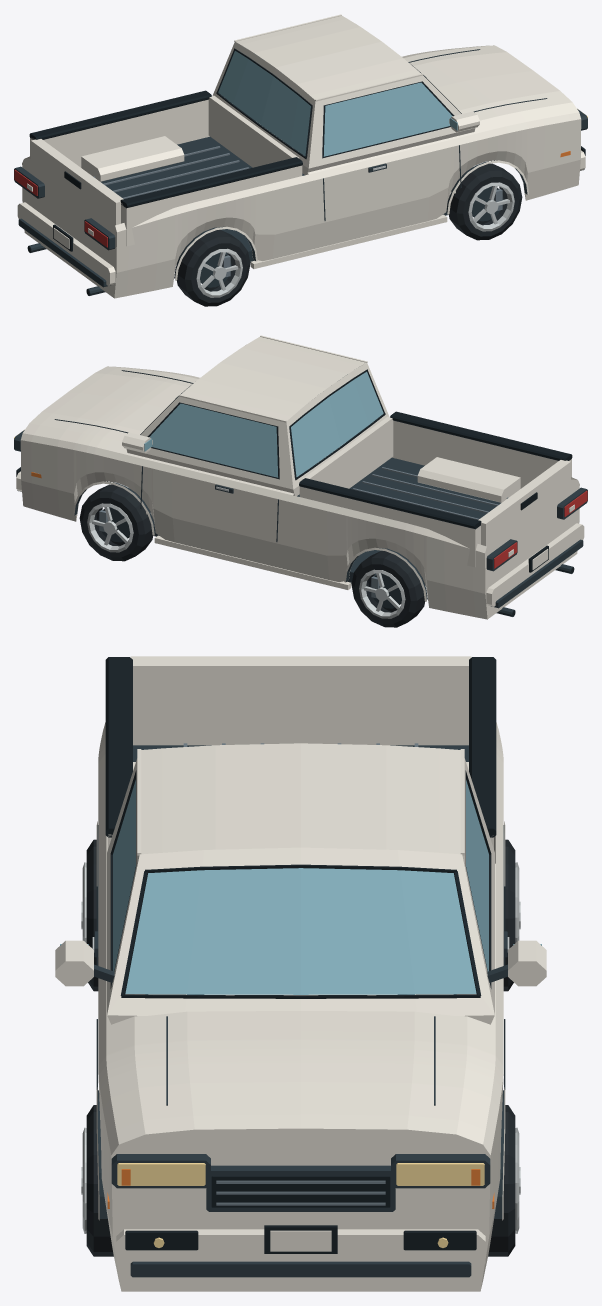
File: b03_regular_cab_work_pickup.glb
The picture shows the model from 3 angles, top to bottom: view 1: azimuth 30°, elevation 25°; view 2: azimuth 150°, elevation 25°; view 3: azimuth 270°, elevation 25°; orthographic projection. The views are drawn at different scales.
Parts seen in each view (by area): view 1: b03_regular_cab_work_pickup; view 2: b03_regular_cab_work_pickup; view 3: b03_regular_cab_work_pickup.
Part boxes in pixels (x1,y1,x2,y2): b03_regular_cab_work_pickup: [14, 14, 587, 306]; b03_regular_cab_work_pickup: [14, 335, 587, 627]; b03_regular_cab_work_pickup: [55, 656, 546, 1291].
Size of the model in its own units: 5.49 by 1.88 by 2.41.
